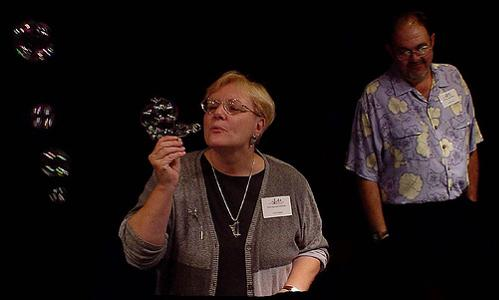person: (115, 70, 332, 295)
